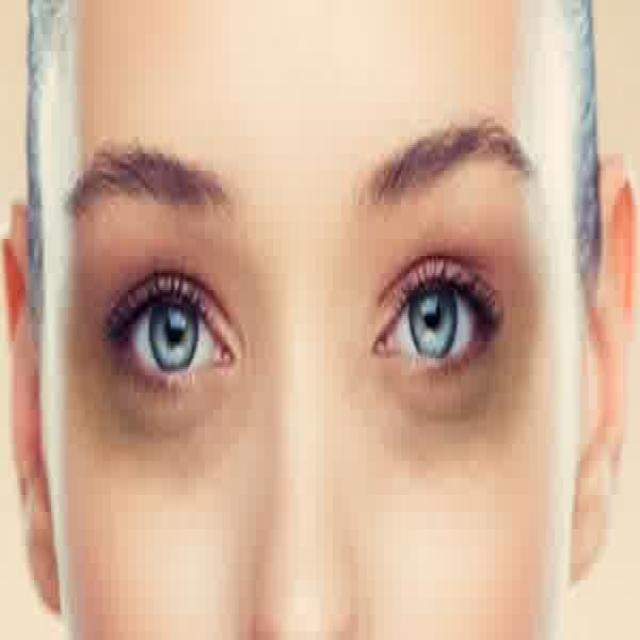Eyebags: (70, 246, 258, 486), (372, 231, 548, 481)
